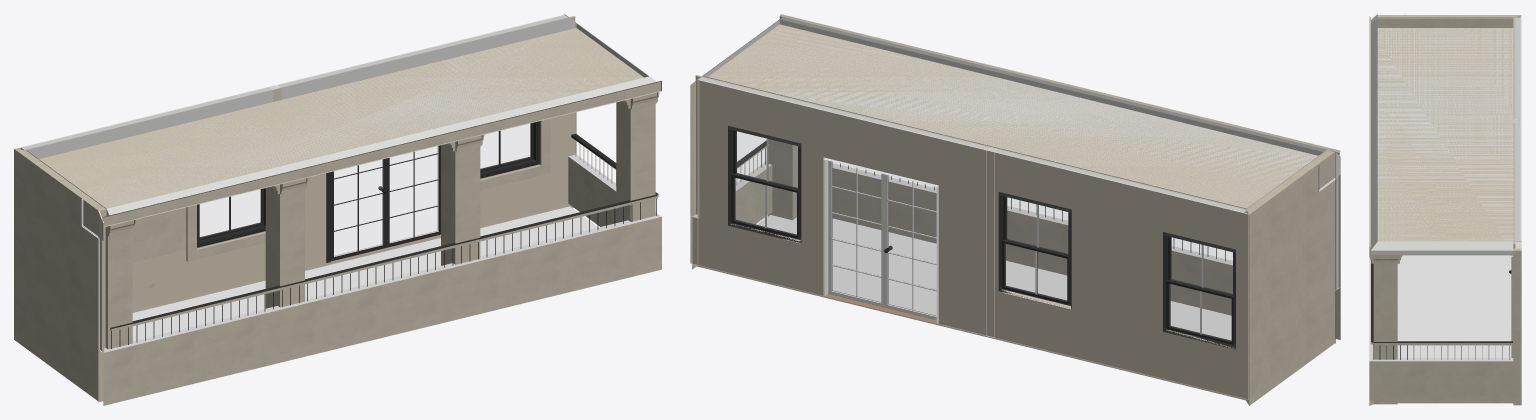
The model's file is front-balcony-d2f1b9a3ebc4.glb.
The picture shows the model from 3 angles, left to right: view 1: azimuth 30°, elevation 25°; view 2: azimuth 150°, elevation 25°; view 3: azimuth 270°, elevation 25°; orthographic projection. The views are drawn at different scales.
Visible parts, largest first — view 1: front-balcony-0ac23dde8d2f7c54, front-balcony-b39baa29700ae605, front-balcony-f6a7cfeba332478b, front-balcony-62353aa10fc57f23, front-balcony-b0ade14315e4f1c3, front-balcony-0987656e6ddb83c1, front-balcony-dbd60ee5c3733ed6, front-balcony-24022e0f0167e9d7, front-balcony-f0f007964d256d2c, front-balcony-771be2dfa886178e, front-balcony-41597b955207c1bc, front-balcony-489e9ad801b4b62e (+7 smaller); view 2: front-balcony-b0ade14315e4f1c3, front-balcony-0ac23dde8d2f7c54, front-balcony-f6a7cfeba332478b, front-balcony-62353aa10fc57f23, front-balcony-0987656e6ddb83c1, front-balcony-b39baa29700ae605, front-balcony-dbd60ee5c3733ed6, front-balcony-e1735639a83d20d7, front-balcony-60f0db96f832035a, front-balcony-b5cb73c07919def8, front-balcony-41597b955207c1bc, front-balcony-dc9de07e6ba3b47a (+3 smaller); view 3: front-balcony-0ac23dde8d2f7c54, front-balcony-f6a7cfeba332478b, front-balcony-dbd60ee5c3733ed6, front-balcony-dc9de07e6ba3b47a, front-balcony-41597b955207c1bc, front-balcony-b0ade14315e4f1c3, front-balcony-62353aa10fc57f23, front-balcony-adb6f49a6d2cbec3, front-balcony-8ce6cdf114d83750, front-balcony-24022e0f0167e9d7, front-balcony-16d9002bc6318568, front-balcony-19165bb3a07bed8e (+3 smaller).
Boxes of the visible parts, bbox=[...] form: front-balcony-0ac23dde8d2f7c54: bbox=[26, 18, 656, 215]; front-balcony-b39baa29700ae605: bbox=[98, 216, 661, 405]; front-balcony-f6a7cfeba332478b: bbox=[45, 29, 641, 207]; front-balcony-62353aa10fc57f23: bbox=[14, 149, 106, 401]; front-balcony-b0ade14315e4f1c3: bbox=[15, 15, 575, 309]; front-balcony-0987656e6ddb83c1: bbox=[326, 145, 440, 262]; front-balcony-dbd60ee5c3733ed6: bbox=[132, 206, 597, 340]; front-balcony-24022e0f0167e9d7: bbox=[102, 80, 661, 227]; front-balcony-f0f007964d256d2c: bbox=[265, 187, 304, 308]; front-balcony-771be2dfa886178e: bbox=[441, 144, 480, 265]; front-balcony-41597b955207c1bc: bbox=[616, 102, 655, 222]; front-balcony-489e9ad801b4b62e: bbox=[105, 226, 132, 349]; front-balcony-b0ade14315e4f1c3: bbox=[692, 75, 1248, 399]; front-balcony-0ac23dde8d2f7c54: bbox=[702, 17, 1327, 209]; front-balcony-f6a7cfeba332478b: bbox=[710, 24, 1317, 207]; front-balcony-62353aa10fc57f23: bbox=[1246, 150, 1334, 405]; front-balcony-0987656e6ddb83c1: bbox=[823, 158, 938, 323]; front-balcony-b39baa29700ae605: bbox=[832, 163, 1340, 343]; front-balcony-dbd60ee5c3733ed6: bbox=[702, 215, 1245, 400]; front-balcony-e1735639a83d20d7: bbox=[728, 126, 801, 242]; front-balcony-60f0db96f832035a: bbox=[1163, 232, 1235, 349]; front-balcony-b5cb73c07919def8: bbox=[998, 192, 1071, 308]; front-balcony-41597b955207c1bc: bbox=[767, 139, 797, 220]; front-balcony-dc9de07e6ba3b47a: bbox=[735, 161, 772, 224]; front-balcony-0ac23dde8d2f7c54: bbox=[1371, 17, 1513, 254]; front-balcony-f6a7cfeba332478b: bbox=[1371, 28, 1513, 255]; front-balcony-dbd60ee5c3733ed6: bbox=[1397, 255, 1513, 403]; front-balcony-dc9de07e6ba3b47a: bbox=[1369, 358, 1513, 400]; front-balcony-41597b955207c1bc: bbox=[1373, 264, 1397, 404]; front-balcony-b0ade14315e4f1c3: bbox=[1513, 15, 1521, 400]; front-balcony-62353aa10fc57f23: bbox=[1377, 15, 1521, 27]; front-balcony-adb6f49a6d2cbec3: bbox=[1513, 249, 1521, 361]; front-balcony-8ce6cdf114d83750: bbox=[1373, 341, 1512, 345]; front-balcony-24022e0f0167e9d7: bbox=[1369, 16, 1370, 255]; front-balcony-16d9002bc6318568: bbox=[1514, 361, 1521, 400]; front-balcony-19165bb3a07bed8e: bbox=[1511, 255, 1513, 357].
Size of the model in its own units: 9.14 by 3 by 2.55.
19 materials, 4 textured.
